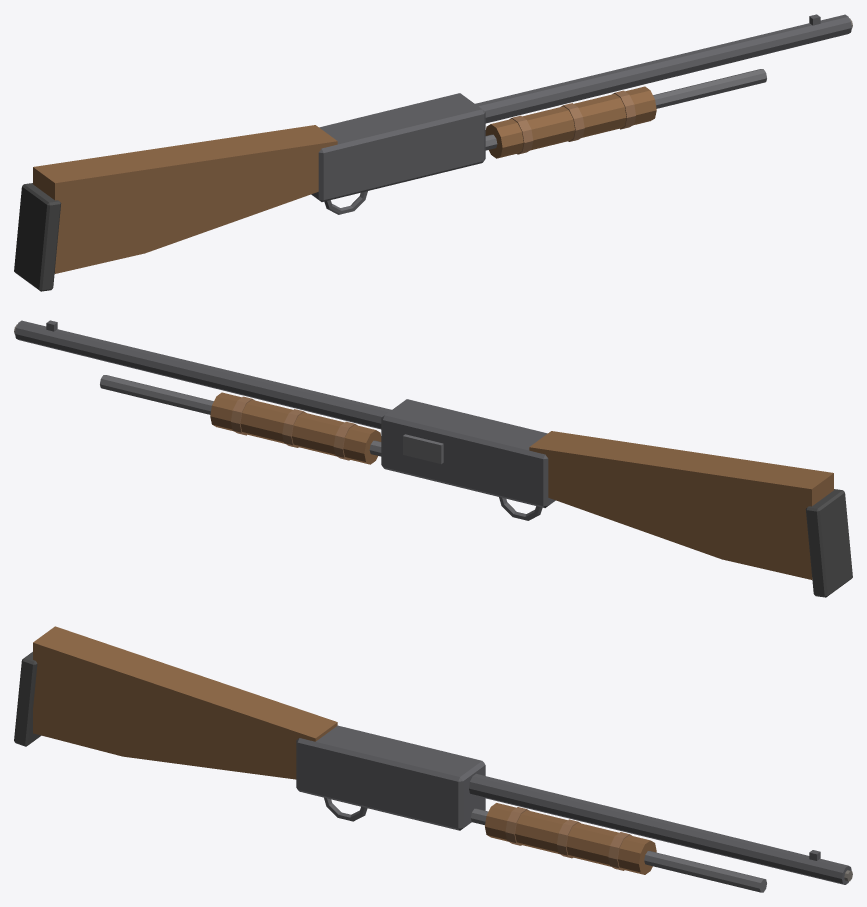
File: shotgun.glb
3 renders of one model, top to bottom at view 1: azimuth 30°, elevation 25°; view 2: azimuth 150°, elevation 25°; view 3: azimuth 330°, elevation 25°, orthographic.
Visible parts, largest first — view 1: Stock, Receiver, Barrel, PumpWood, Pad, Tube; view 2: Stock, Receiver, Barrel, PumpWood, Pad, Tube, Eject; view 3: Stock, Receiver, Barrel, PumpWood, Tube, Pad.
Boxes of the visible parts, left/top/right/bottom form: Stock: left=33, top=125, right=337, bottom=273; Receiver: left=311, top=93, right=485, bottom=201; Barrel: left=475, top=14, right=851, bottom=123; PumpWood: left=485, top=86, right=656, bottom=158; Pad: left=14, top=183, right=61, bottom=291; Tube: left=485, top=69, right=766, bottom=150; Stock: left=529, top=431, right=833, bottom=579; Receiver: left=381, top=399, right=555, bottom=507; Barrel: left=15, top=320, right=391, bottom=429; PumpWood: left=210, top=392, right=381, bottom=464; Pad: left=805, top=489, right=852, bottom=597; Tube: left=100, top=375, right=381, bottom=456; Eject: left=403, top=434, right=443, bottom=464; Stock: left=33, top=626, right=337, bottom=779; Receiver: left=296, top=725, right=485, bottom=830; Barrel: left=469, top=773, right=851, bottom=884; PumpWood: left=485, top=803, right=656, bottom=874; Tube: left=470, top=808, right=766, bottom=892; Pad: left=14, top=652, right=41, bottom=746.
Bounding box in the file's own units: 1.28 × 0.1662 × 0.0785.
